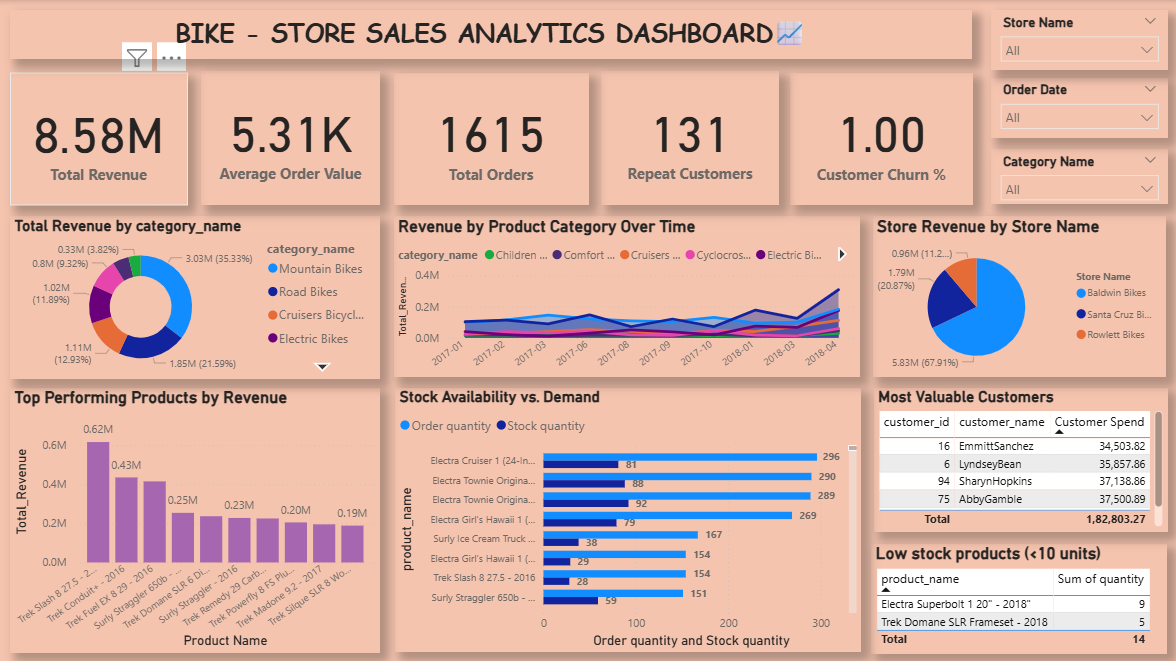

Layout of this report page (visuals, bound fields, positions):
{"tool":"powerbi","page":{"name":"HOME","canvas":[1280,720],"ordinal":0},"visuals":[{"type":"card","fields":{"Values":["bike_store brands.Total Revenue"]},"box":[10.9,78.9,193.2,144.2],"z":0},{"type":"columnChart","title":"Top Performing Products by Revenue","fields":{"Category":["bike_store products.product_name"],"Y":["bike_store order_items.Total_Revenue"]},"box":[10.9,421.8,402.7,288.4],"z":1000},{"type":"areaChart","title":"Revenue by Product Category Over Time","fields":{"Category":["bike_store orders.Order Month"],"Series":["bike_store categories.category_name"],"Y":["bike_store order_items.Total_Revenue"]},"box":[428.6,235.4,507.5,175.5],"z":2000},{"type":"tableEx","title":"Most Valuable Customers","fields":{"Values":["bike_store customers.customer_id","bike_store customers.bike_store customer_name","bike_store order_items.Customer Spend"]},"box":[951,421.8,319.7,156.5],"z":3000},{"type":"card","fields":{"Values":["bike_store orders.Repeat Customers"]},"box":[654.1,77.7,193.6,145.5],"z":4000},{"type":"tableEx","title":"Low stock products (<10 units)","fields":{"Values":["bike_store products.product_name","bike_store stocks.quantity"]},"box":[948.3,591.8,322.5,119.7],"z":5000},{"type":"pieChart","title":"Store Revenue by Store Name","fields":{"Category":["bike_store stores.store_name"],"Y":["bike_store order_items.Store Revenue"]},"box":[949.7,235.4,319.7,175.5],"z":6000},{"type":"slicer","fields":{"Values":["bike_store orders.order_date"]},"box":[1078.6,83.7,192.1,65.9],"z":7000},{"type":"slicer","fields":{"Values":["bike_store stores.store_name"]},"box":[1078.6,11,192.1,65.9],"z":8000},{"type":"slicer","fields":{"Values":["bike_store categories.category_name"]},"box":[1078.6,161.9,192.1,60.4],"z":9000},{"type":"textbox","box":[11.3,11.3,1046.9,53.7],"z":10000},{"type":"card","fields":{"Values":["bike_store order_items.Average Order Value"]},"box":[219,77.6,194.6,145.6],"z":11000},{"type":"donutChart","fields":{"Category":["bike_store categories.category_name"],"Y":["bike_store brands.Total Revenue"]},"box":[10.9,235.4,402.7,176.9],"z":12000},{"type":"clusteredBarChart","title":"Stock Availability vs. Demand","fields":{"Category":["bike_store products.product_name"],"Y":["bike_store order_items.quantity","bike_store stocks.quantity"]},"box":[429.5,422.4,507.2,288.2],"z":13000},{"type":"card","fields":{"Values":["bike_store customers.Customer Churn %"]},"box":[860.4,79.1,199.2,144.1],"z":14000},{"type":"card","fields":{"Values":["bike_store orders.Total Orders"]},"box":[428.1,79.1,211.9,144.1],"z":15000}]}

Visuals, with their boxes in screenshot pixels (x1, y1, x2, y2), scaled from the page's 1280x720 canvas onto the 1176x661 screenshot:
card - bike_store brands.Total Revenue: rect(10, 72, 188, 205)
"Top Performing Products by Revenue" columnChart: rect(10, 387, 380, 652)
"Revenue by Product Category Over Time" areaChart: rect(394, 216, 860, 377)
"Most Valuable Customers" tableEx: rect(874, 387, 1167, 531)
card - bike_store orders.Repeat Customers: rect(601, 71, 779, 205)
"Low stock products (<10 units)" tableEx: rect(871, 543, 1168, 653)
"Store Revenue by Store Name" pieChart: rect(873, 216, 1166, 377)
slicer - bike_store orders.order_date: rect(991, 77, 1167, 137)
slicer - bike_store stores.store_name: rect(991, 10, 1167, 71)
slicer - bike_store categories.category_name: rect(991, 149, 1167, 204)
textbox: rect(10, 10, 972, 60)
card - bike_store order_items.Average Order Value: rect(201, 71, 380, 205)
donutChart - bike_store categories.category_name x bike_store brands.Total Revenue: rect(10, 216, 380, 379)
"Stock Availability vs. Demand" clusteredBarChart: rect(395, 388, 861, 652)
card - bike_store customers.Customer Churn %: rect(790, 73, 974, 205)
card - bike_store orders.Total Orders: rect(393, 73, 588, 205)
